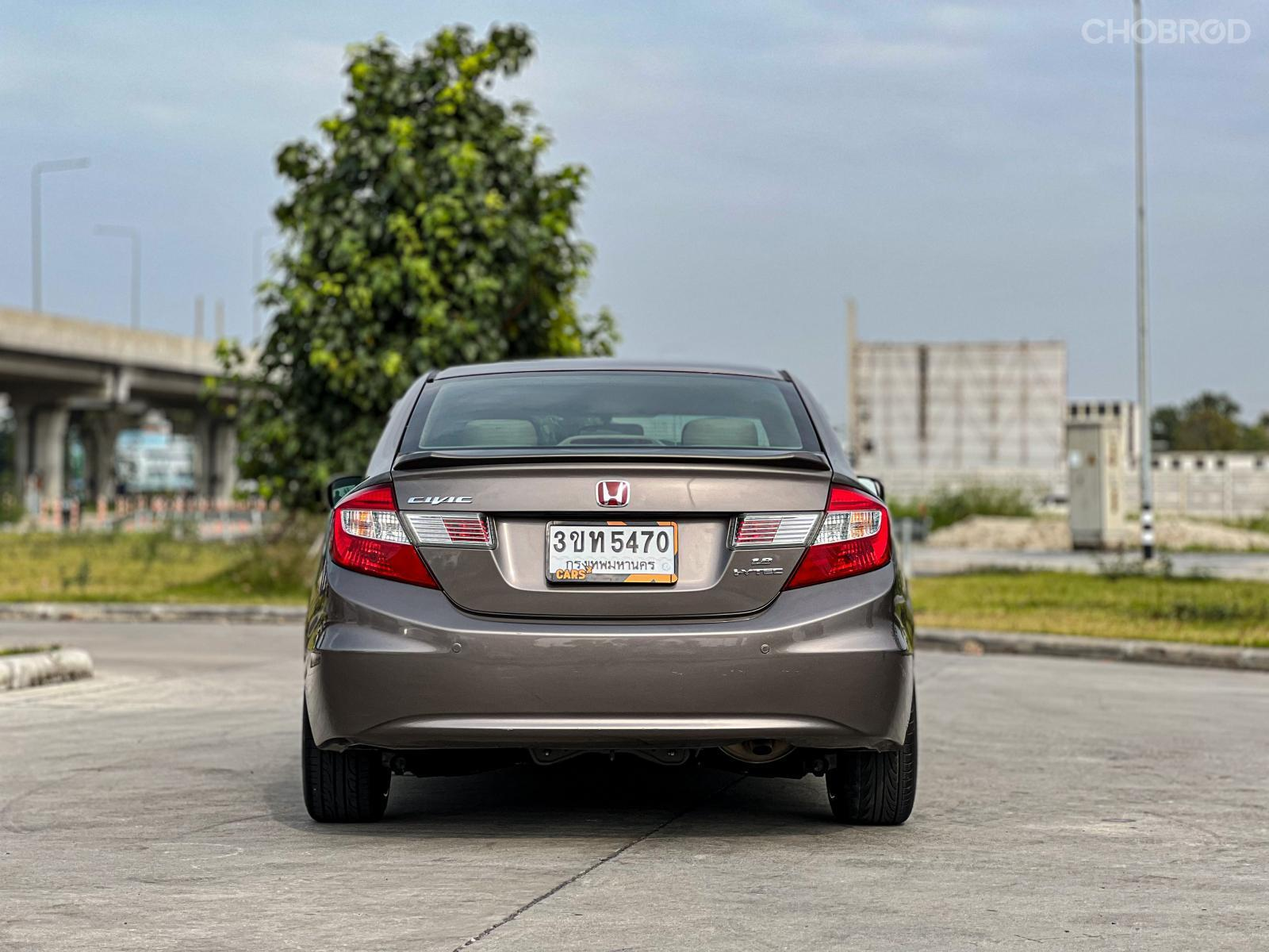license-plate: (541, 513, 685, 592)
